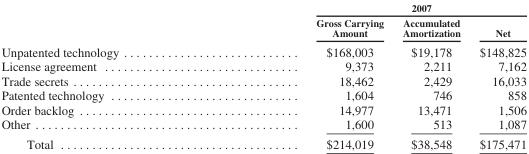table: (0, 1, 525, 150)
table column: (0, 1, 216, 150), (216, 1, 392, 150), (392, 1, 469, 150), (469, 1, 525, 150)
table column header: (0, 1, 525, 41)
table row: (0, 14, 525, 41), (0, 41, 525, 58), (0, 116, 525, 133), (0, 133, 525, 150), (0, 58, 525, 73), (0, 87, 525, 102), (0, 73, 525, 87), (0, 102, 525, 116), (0, 1, 525, 14)
table spanning cell: (216, 1, 525, 14)
